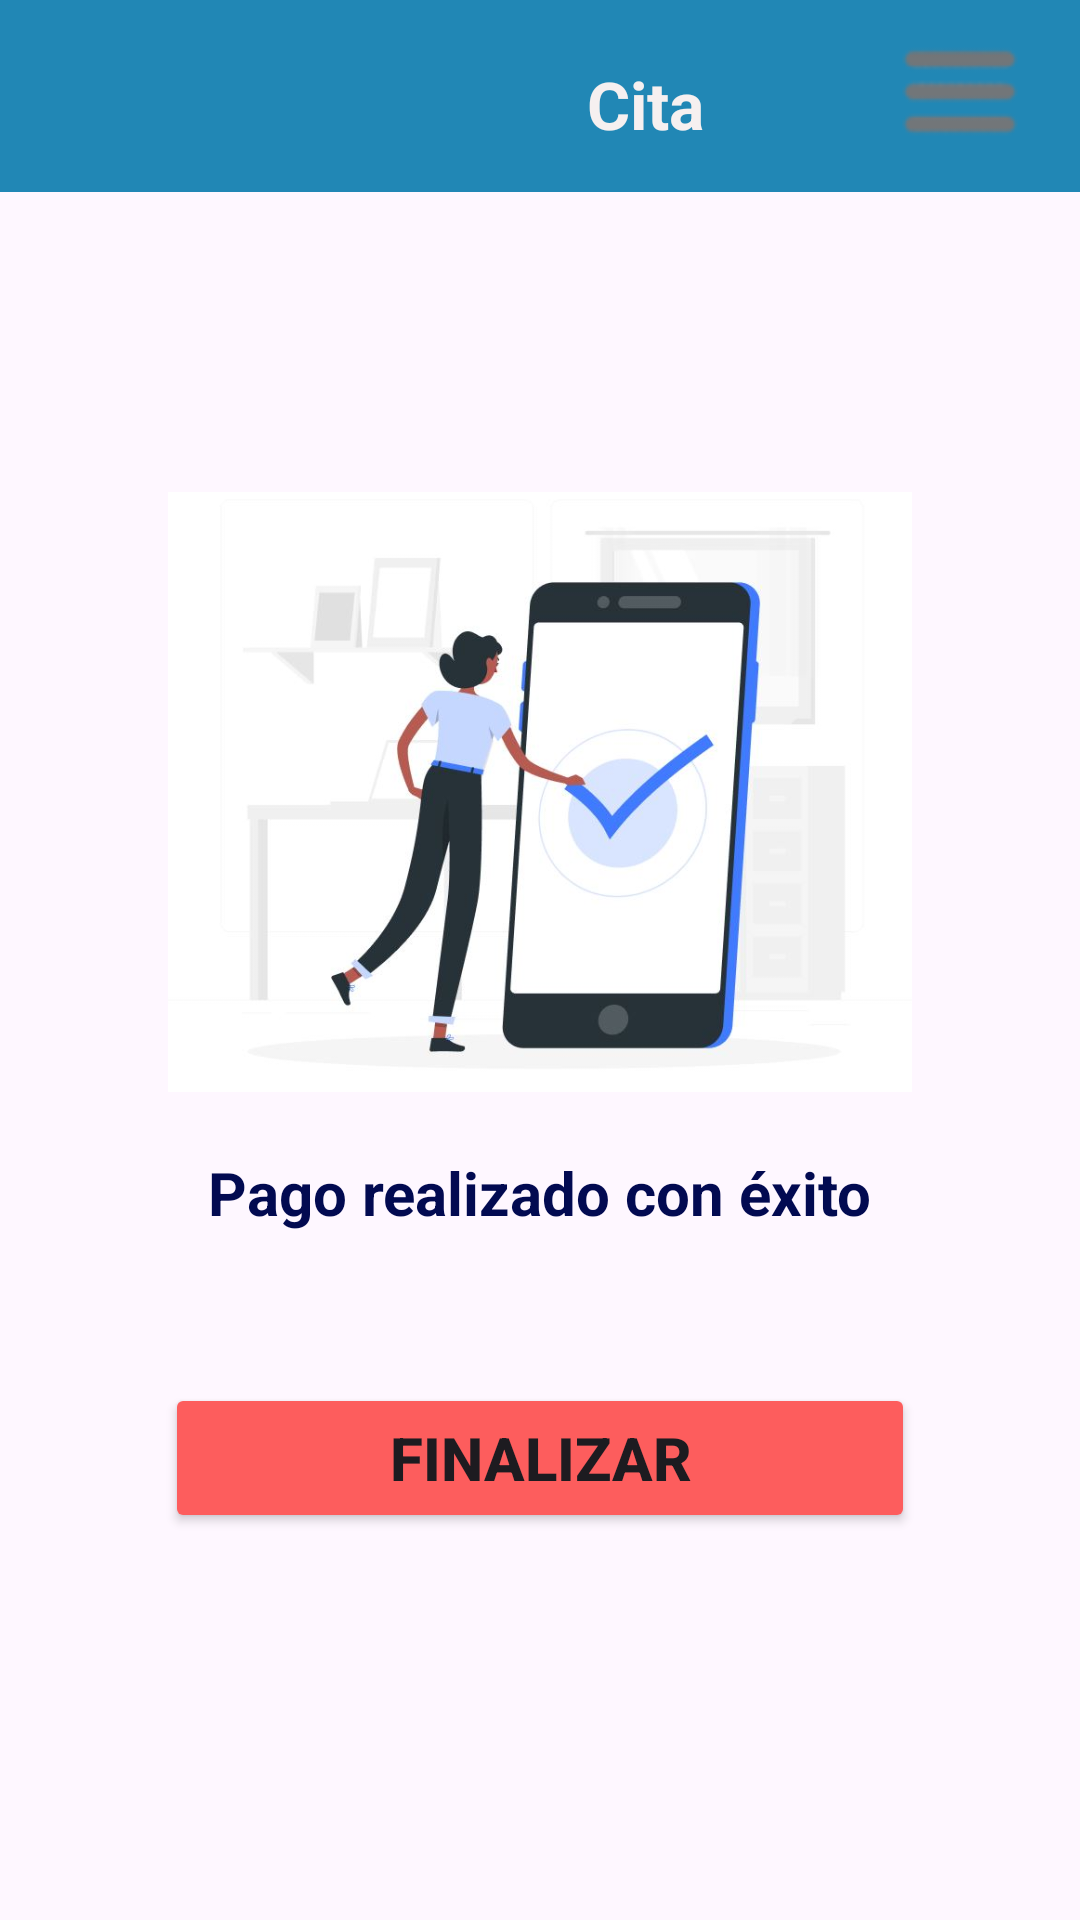

Screen size 1080*1920. Icon name, then its box in pixels as box(x1, y1, x2, y2):
menu: box(904, 50, 1015, 133)
